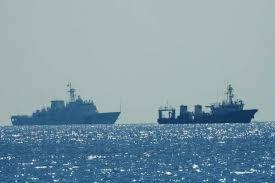MIL_Ship: (11, 82, 122, 124), (156, 83, 258, 125)
